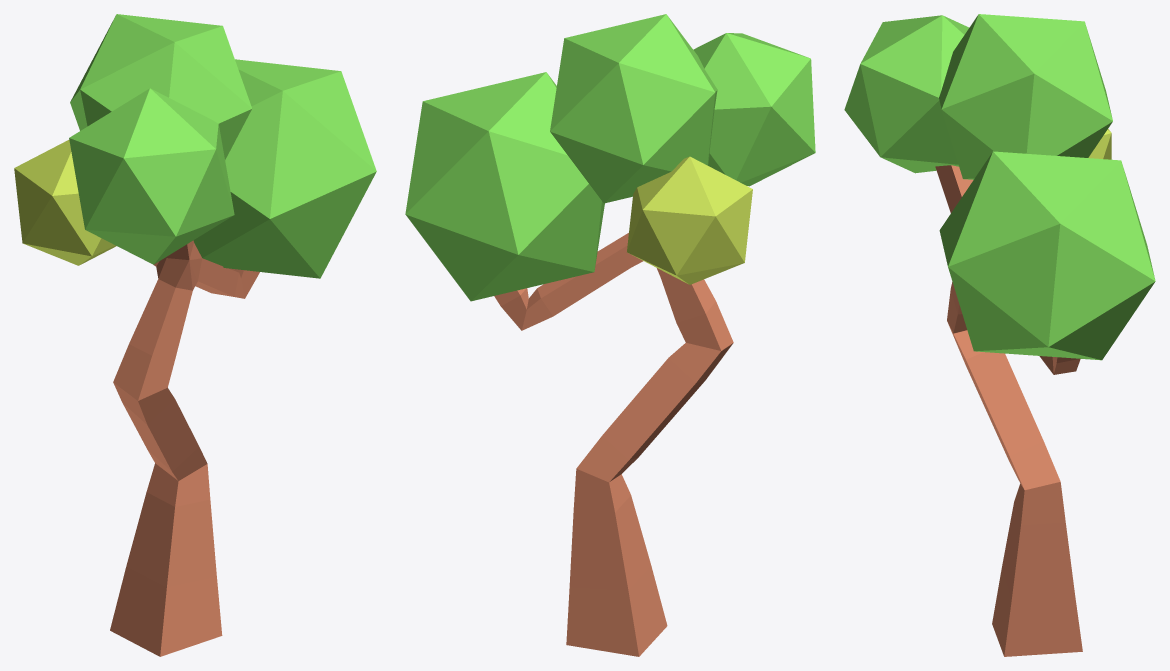
Rendered from Tree 4.fbx.
The picture shows the model from 3 angles, left to right: view 1: azimuth 30°, elevation 25°; view 2: azimuth 150°, elevation 25°; view 3: azimuth 270°, elevation 25°; orthographic projection. The views are drawn at different scales.
Visible parts, largest first — view 1: Tree 4; view 2: Tree 4; view 3: Tree 4.
Boxes of the visible parts, x1,y1,x2,y2 form: Tree 4: (14, 14, 376, 656); Tree 4: (405, 14, 815, 656); Tree 4: (844, 14, 1155, 656).
Size of the model in its own units: 219 by 373 by 171.
